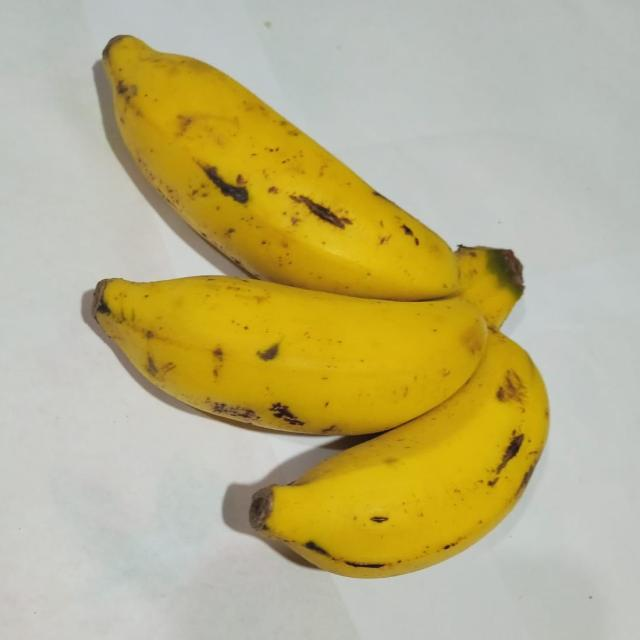banana: (103, 36, 459, 300), (250, 331, 548, 577), (94, 276, 487, 435), (456, 245, 524, 328)
